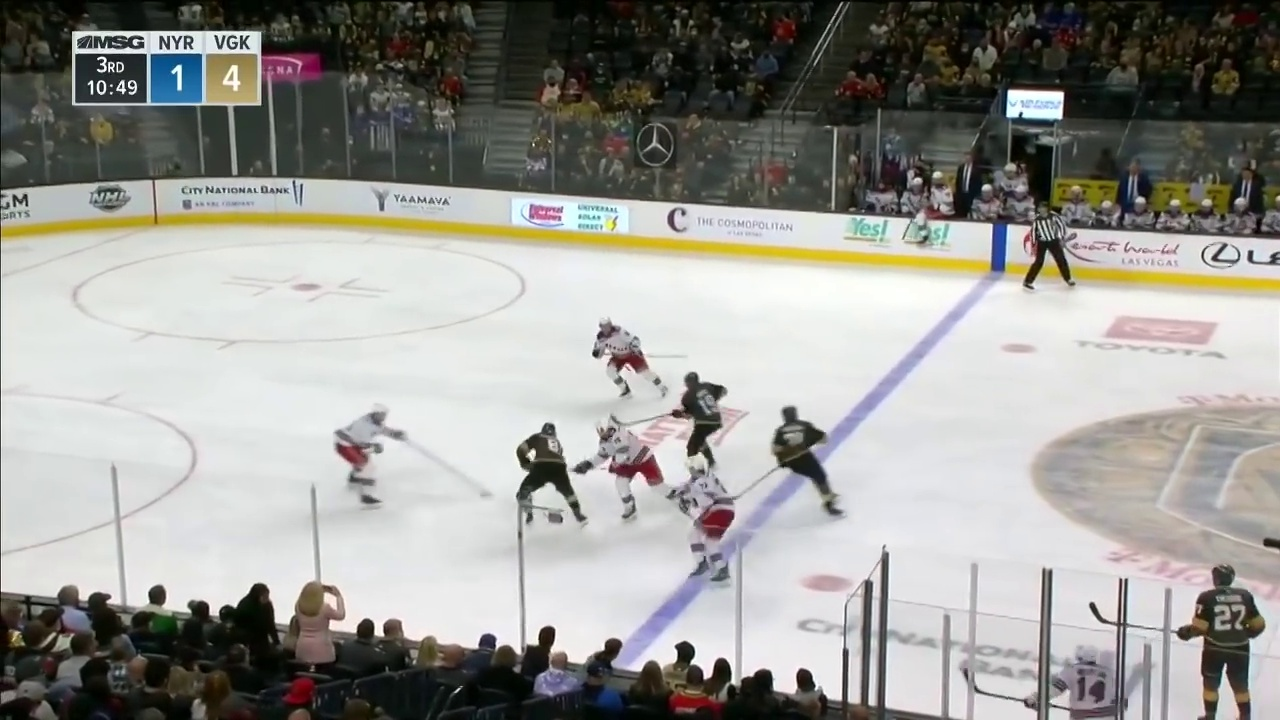hockeyplayer: (1176, 564, 1266, 720), (575, 418, 681, 523), (668, 455, 736, 584), (769, 405, 845, 519), (1024, 642, 1129, 720), (334, 402, 407, 511), (515, 422, 588, 529), (592, 316, 669, 399), (672, 371, 728, 469)
referee: (1022, 201, 1075, 291)
